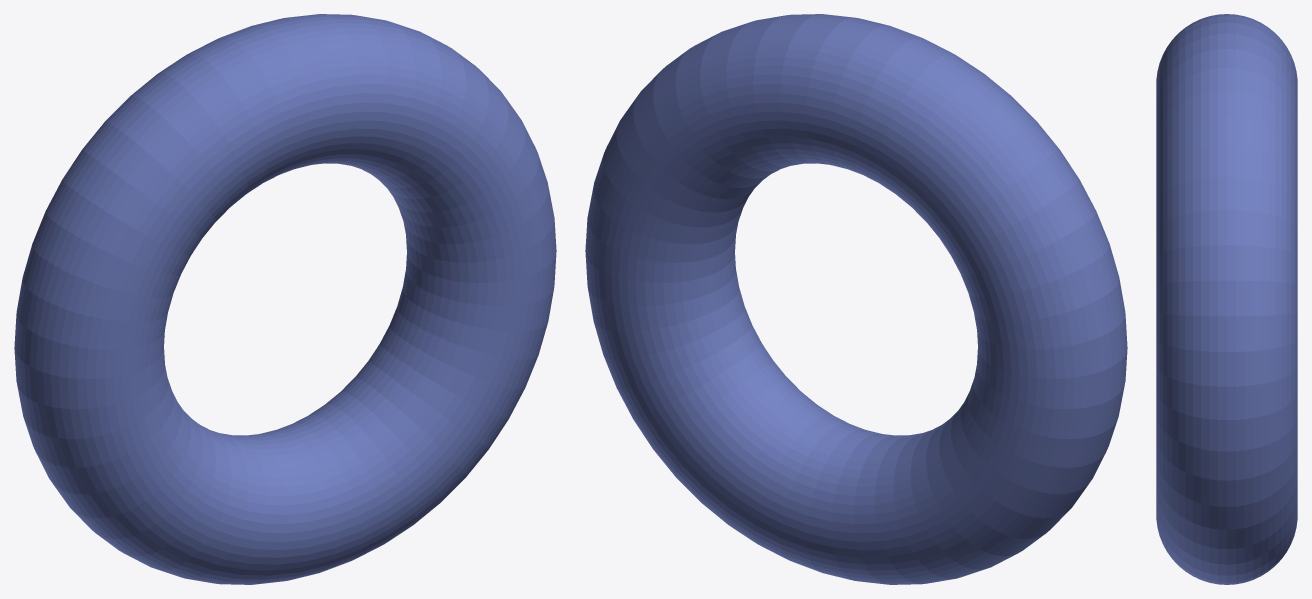
3 views of the same model, side by side, from view 1: azimuth 30°, elevation 25°; view 2: azimuth 150°, elevation 25°; view 3: azimuth 270°, elevation 25° (orthographic). The views are drawn at different scales.
Parts seen in each view (by area): view 1: world; view 2: world; view 3: world.
Boxes of the visible parts, <box> form: world: <box>14,14,556,584</box>; world: <box>585,14,1127,584</box>; world: <box>1156,14,1297,584</box>.
Bounding box in the file's own units: 17.73 × 17.7 × 4.39.
